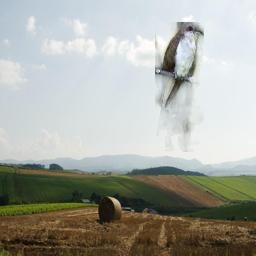Cuckoo: (155, 22, 204, 152)
